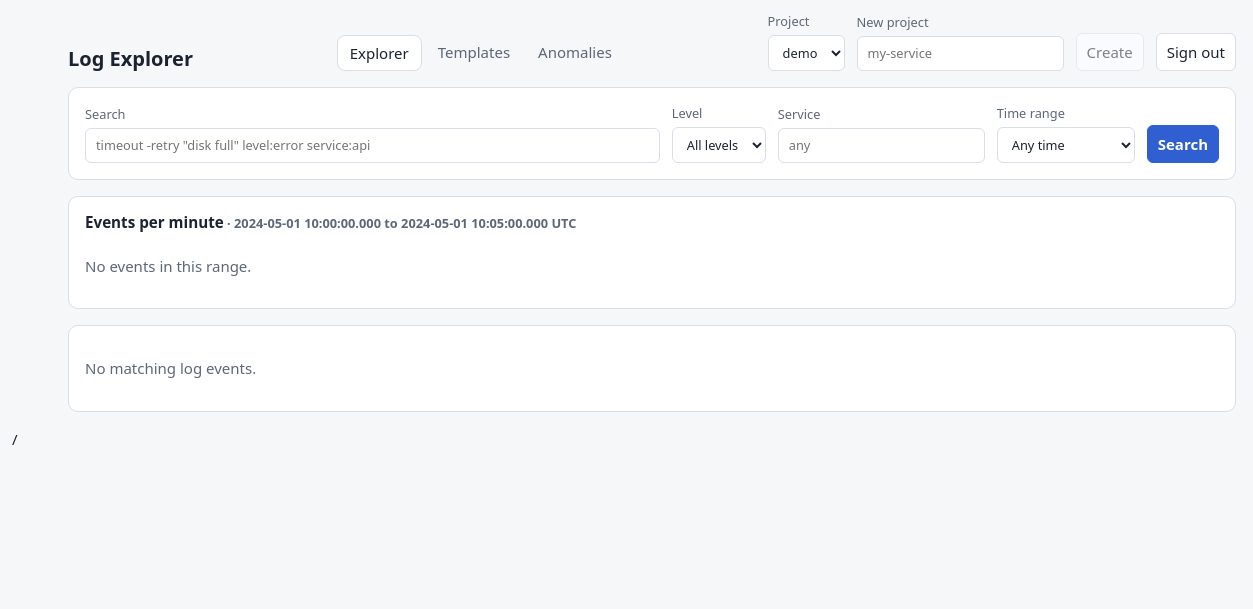
Test: auth flow › keeps a signed-in user on the explorer and signs out back to login
The width and height of the screenshot is (1253, 609).
Check: the heading "Log Explorer" is shown, box left=68, top=47, right=193, bottom=71
Click the button "Sign out" at (1196, 52), box left=1156, top=33, right=1236, bottom=71
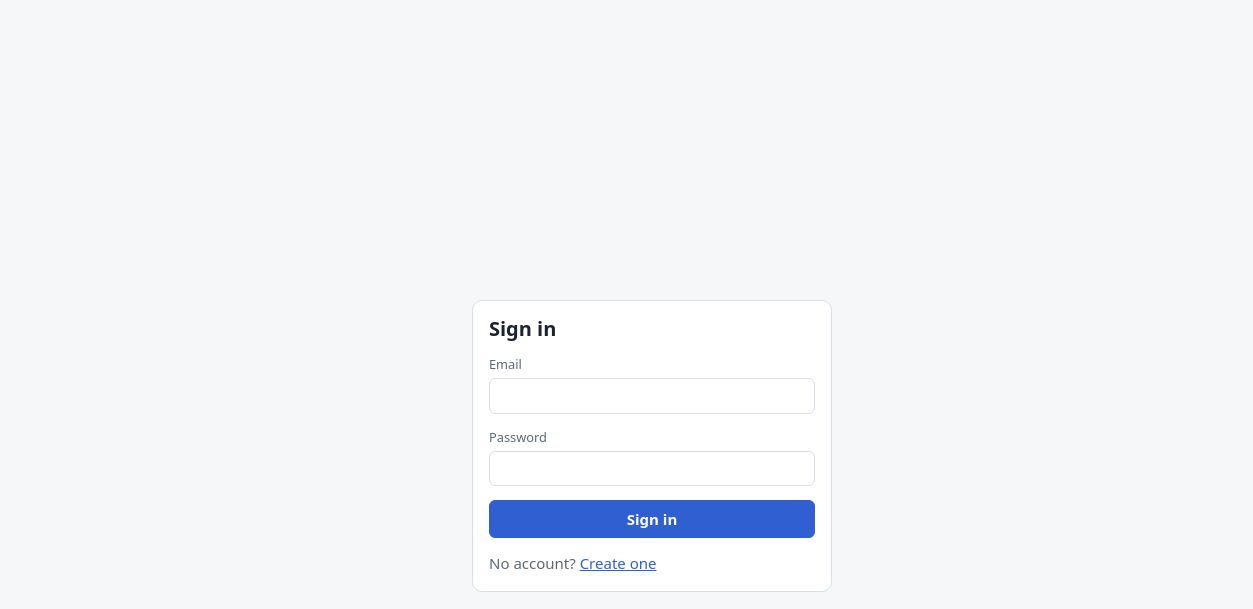
Check: the heading "Sign in" is shown, box left=489, top=315, right=556, bottom=342
